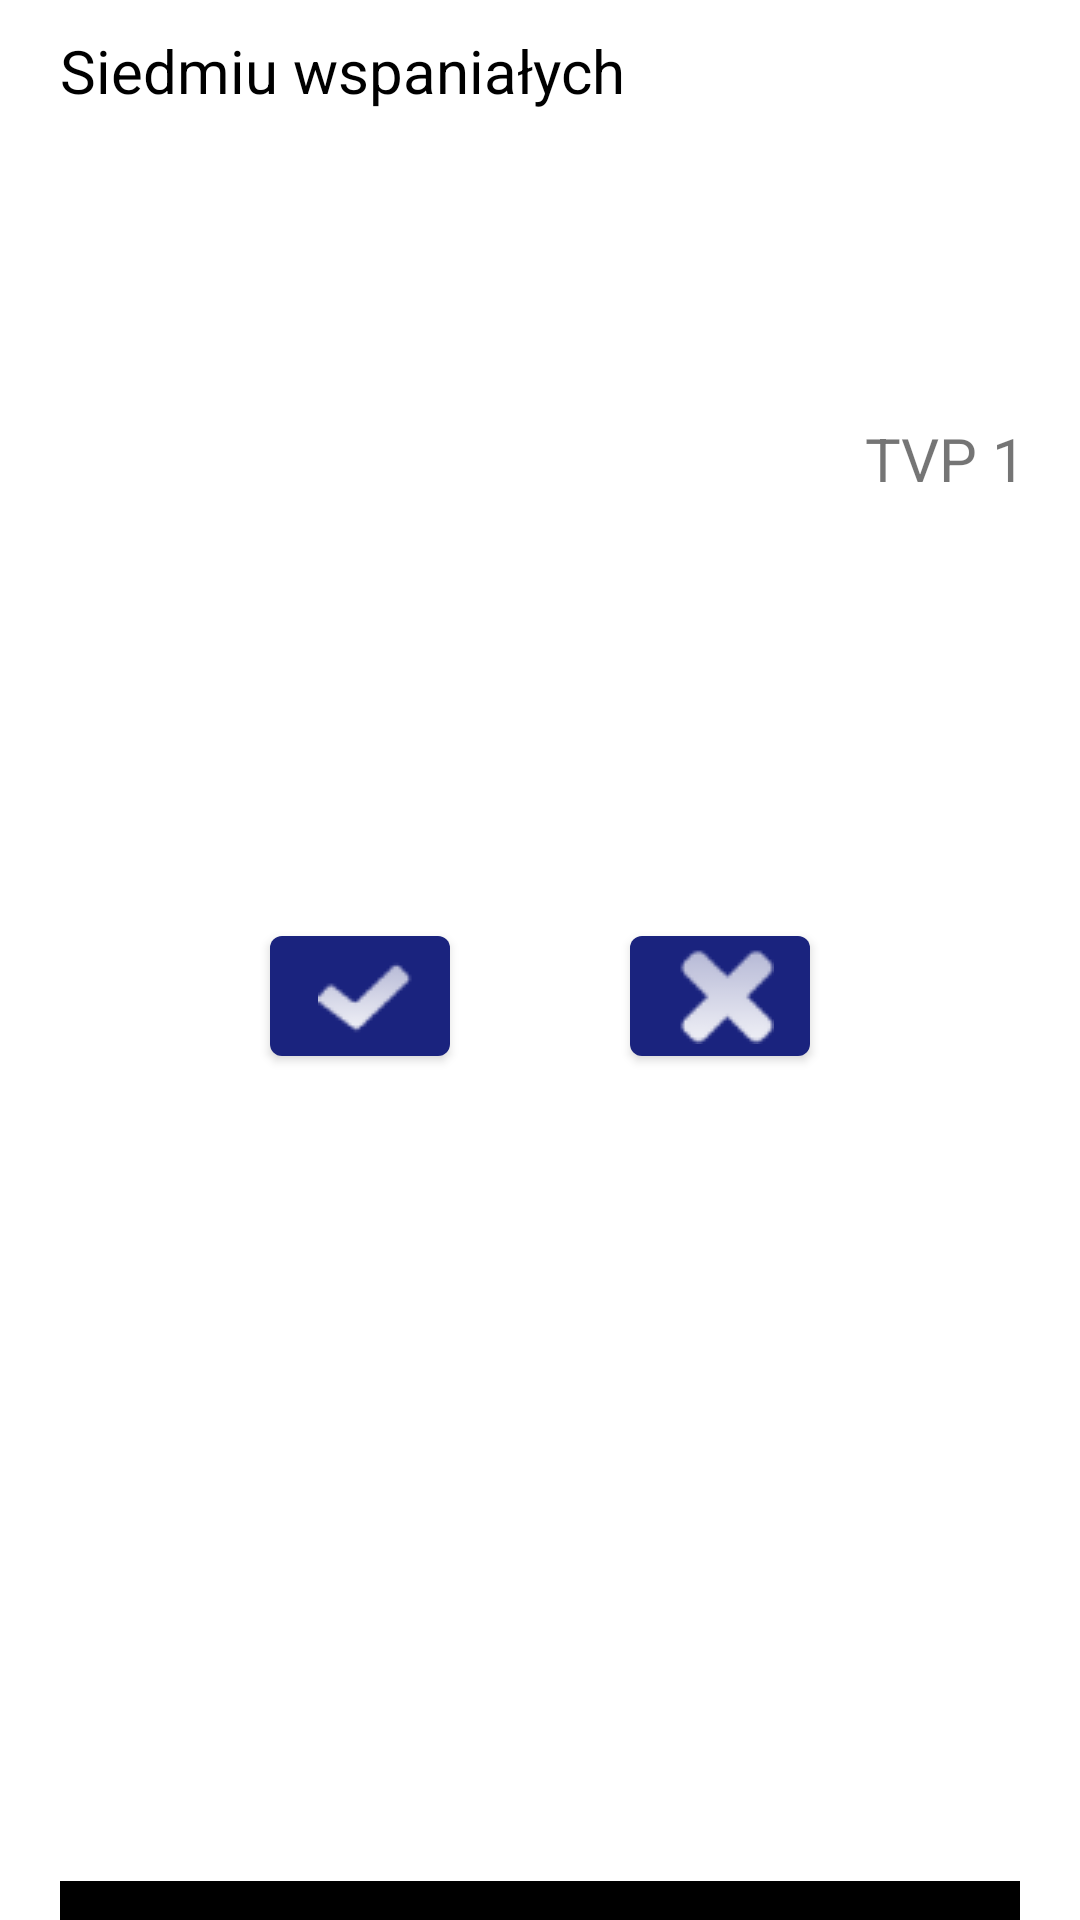

Icon click points for this 1080px×1920px phone screenshot, format point (x, y):
notok: point (720, 997)
